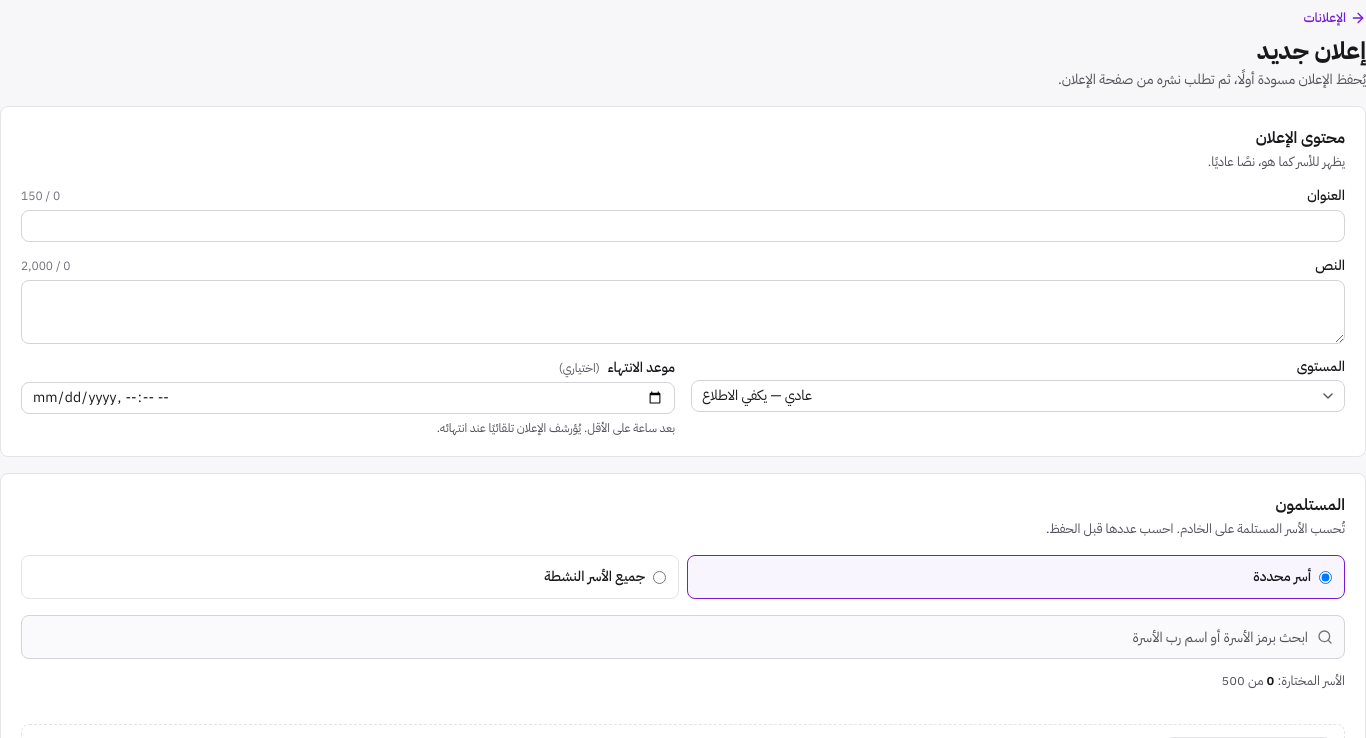
Scenario: composing a draft › offers every ACTIVE family only with announcement.send-all
What coordinates should you click on to do the following:
click the radio button labelled "جميع الأسر النشطة"
I would click on:
 (660, 577)
Its box is left=653, top=571, right=666, bottom=584.
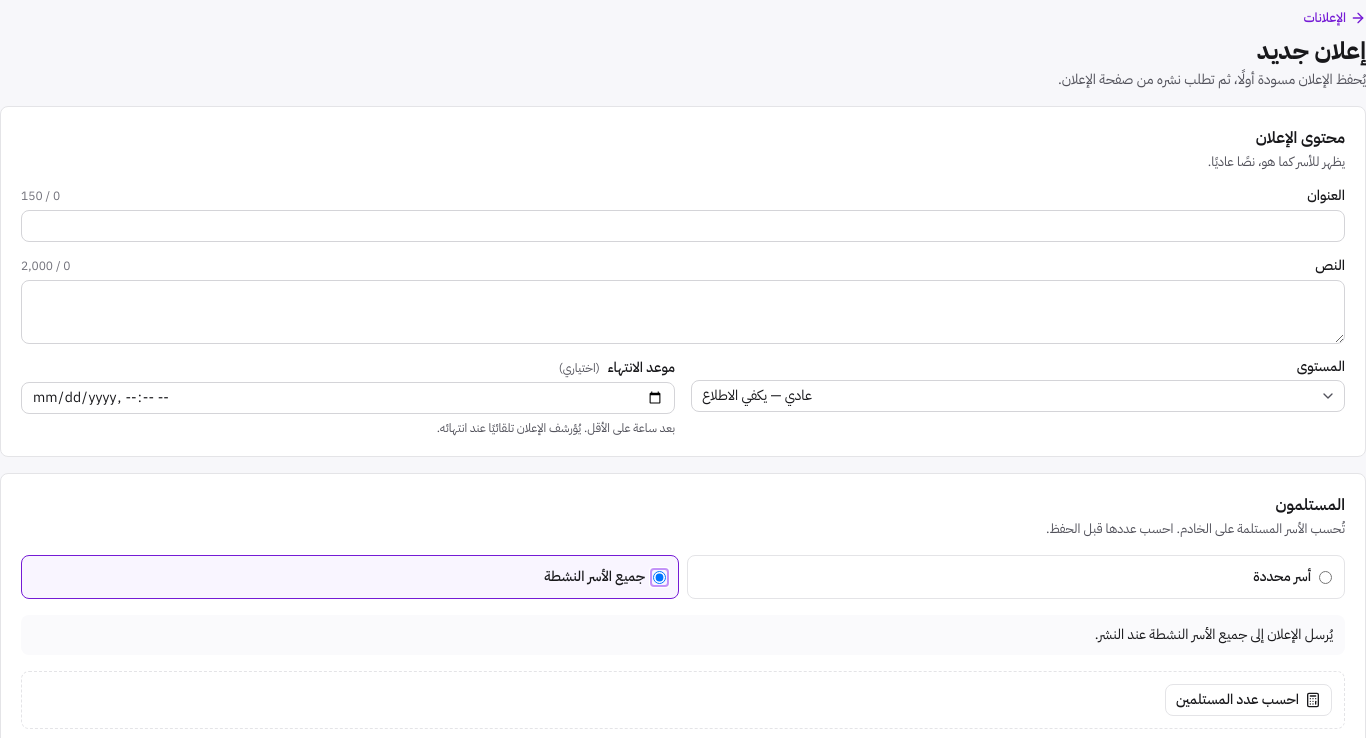
What coordinates should you click on to do the following:
click the button "احسب عدد المستلمين"
I would click on:
 (1248, 700)
Its box is left=1165, top=684, right=1332, bottom=716.
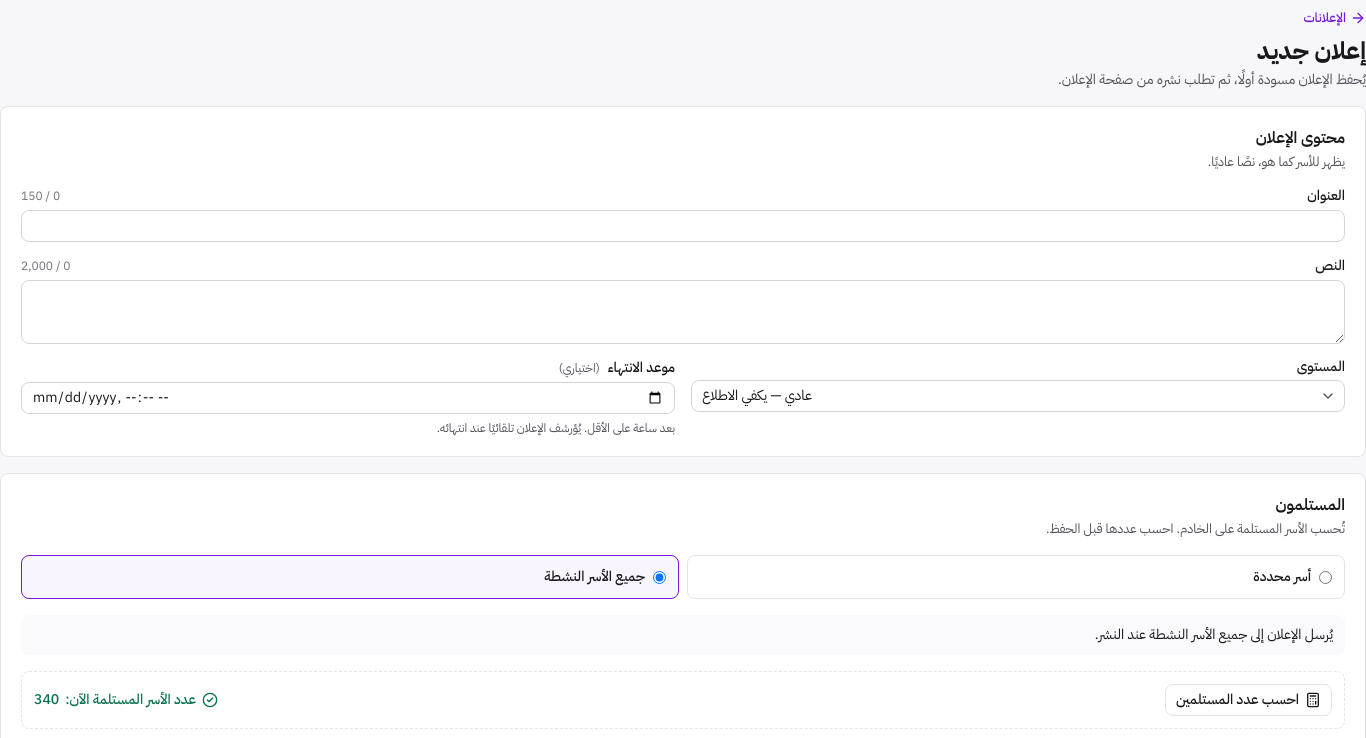
Expected: the text "عدد الأسر المستلمة الآن: 340" is shown, left=34, top=690, right=218, bottom=710
